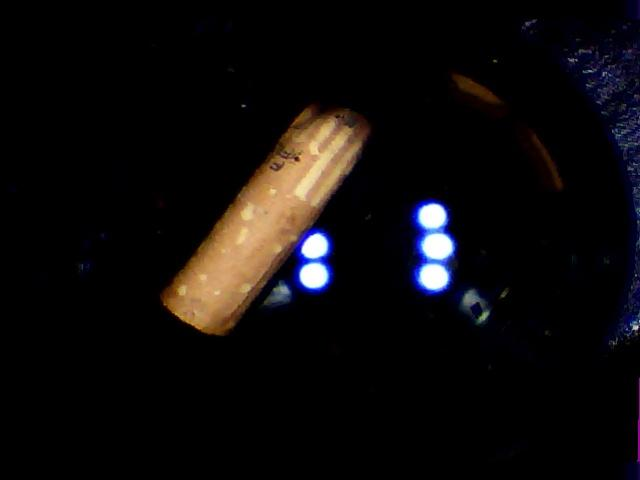megot: (140, 86, 379, 347)
